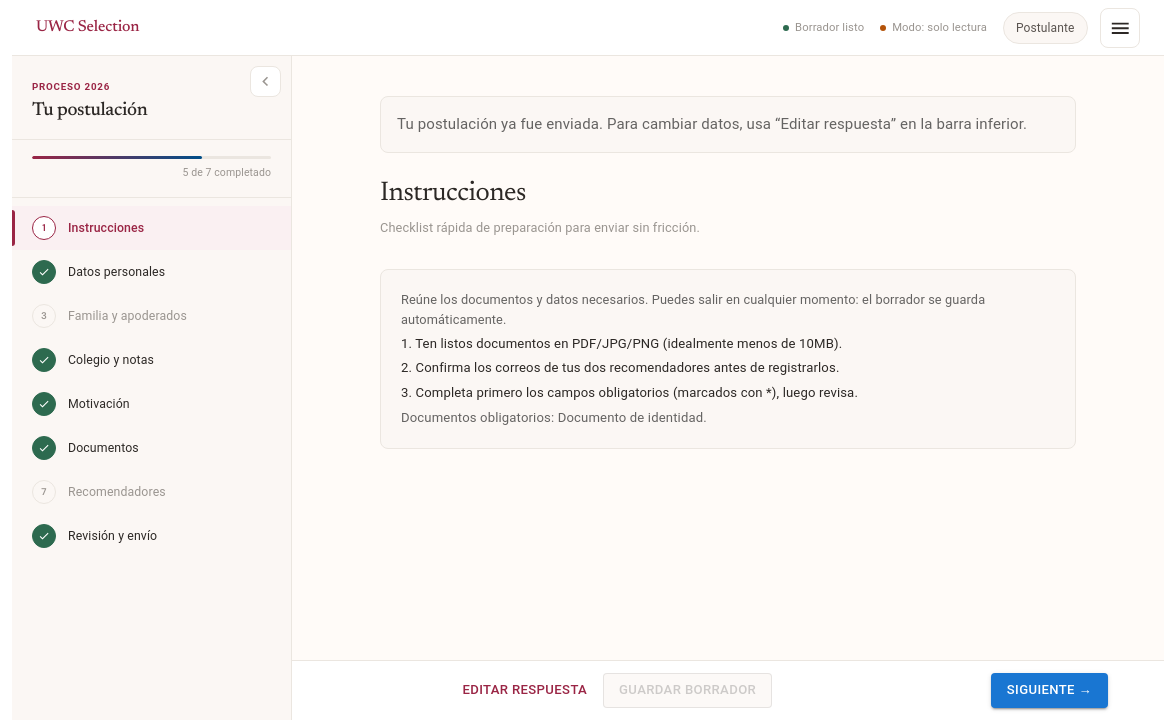
Test: ApplicantApplicationForm › shows progress summary based on submitted state
# Navigate to review_submit to see the full section progress summary
Click the button "Revisión y envío": (152, 536) [12,514,291,558]
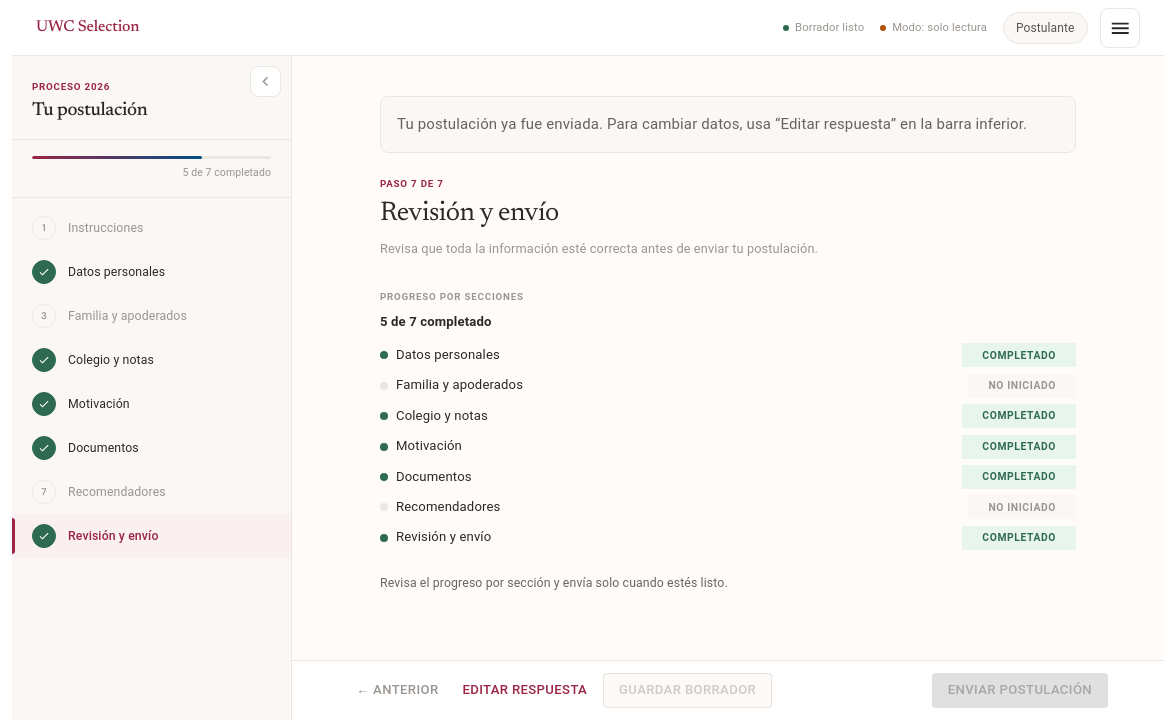
Expected: the text "Progreso por secciones" is shown, [380,291,524,302]
